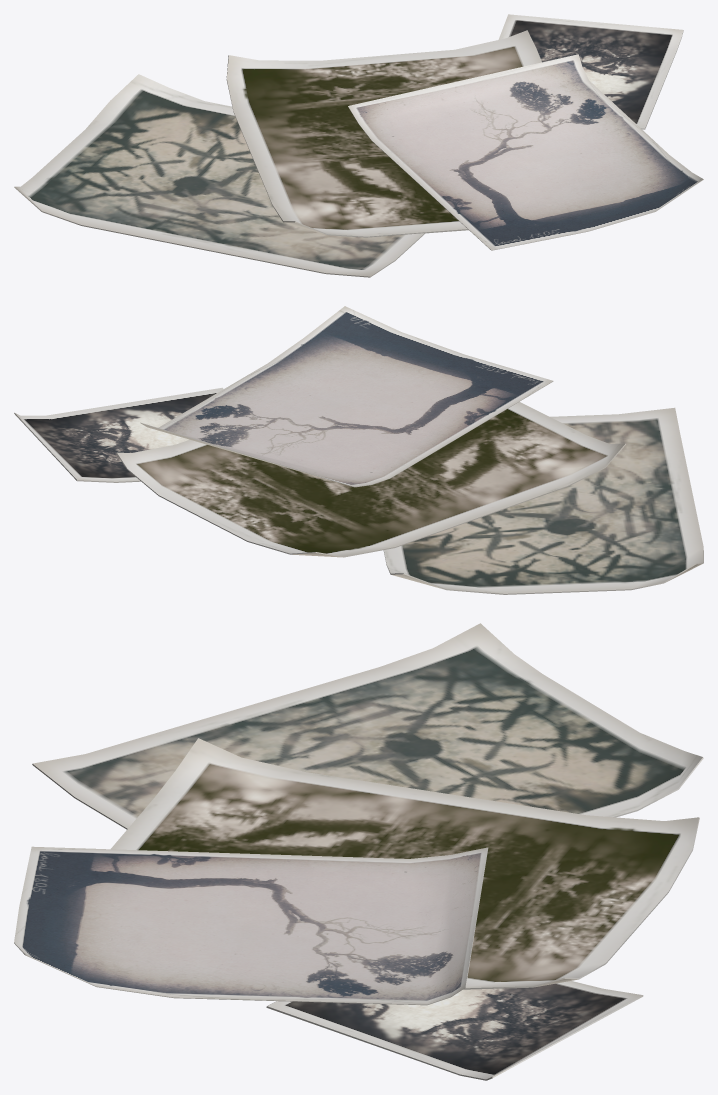
Rendered from Picture_Pile_1.FBX.
3 views of the same model, one above another, from view 1: azimuth 30°, elevation 25°; view 2: azimuth 150°, elevation 25°; view 3: azimuth 270°, elevation 25° (orthographic). The views are drawn at different scales.
Parts seen in each view (by area): view 1: Picture_Pile_1; view 2: Picture_Pile_1; view 3: Picture_Pile_1.
Part boxes in pixels (<box>): Picture_Pile_1: <box>14,14,703,277</box>; Picture_Pile_1: <box>14,306,703,594</box>; Picture_Pile_1: <box>14,623,703,1080</box>.
Bounding box in the file's own units: 72.8 × 2.58 × 48.26.
